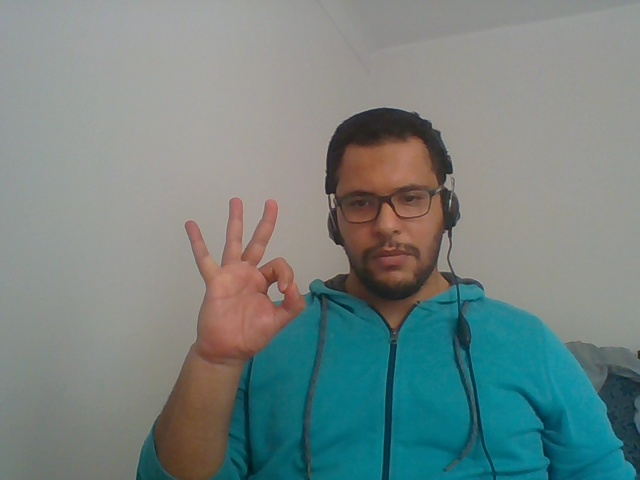okay: (160, 180, 313, 409)
